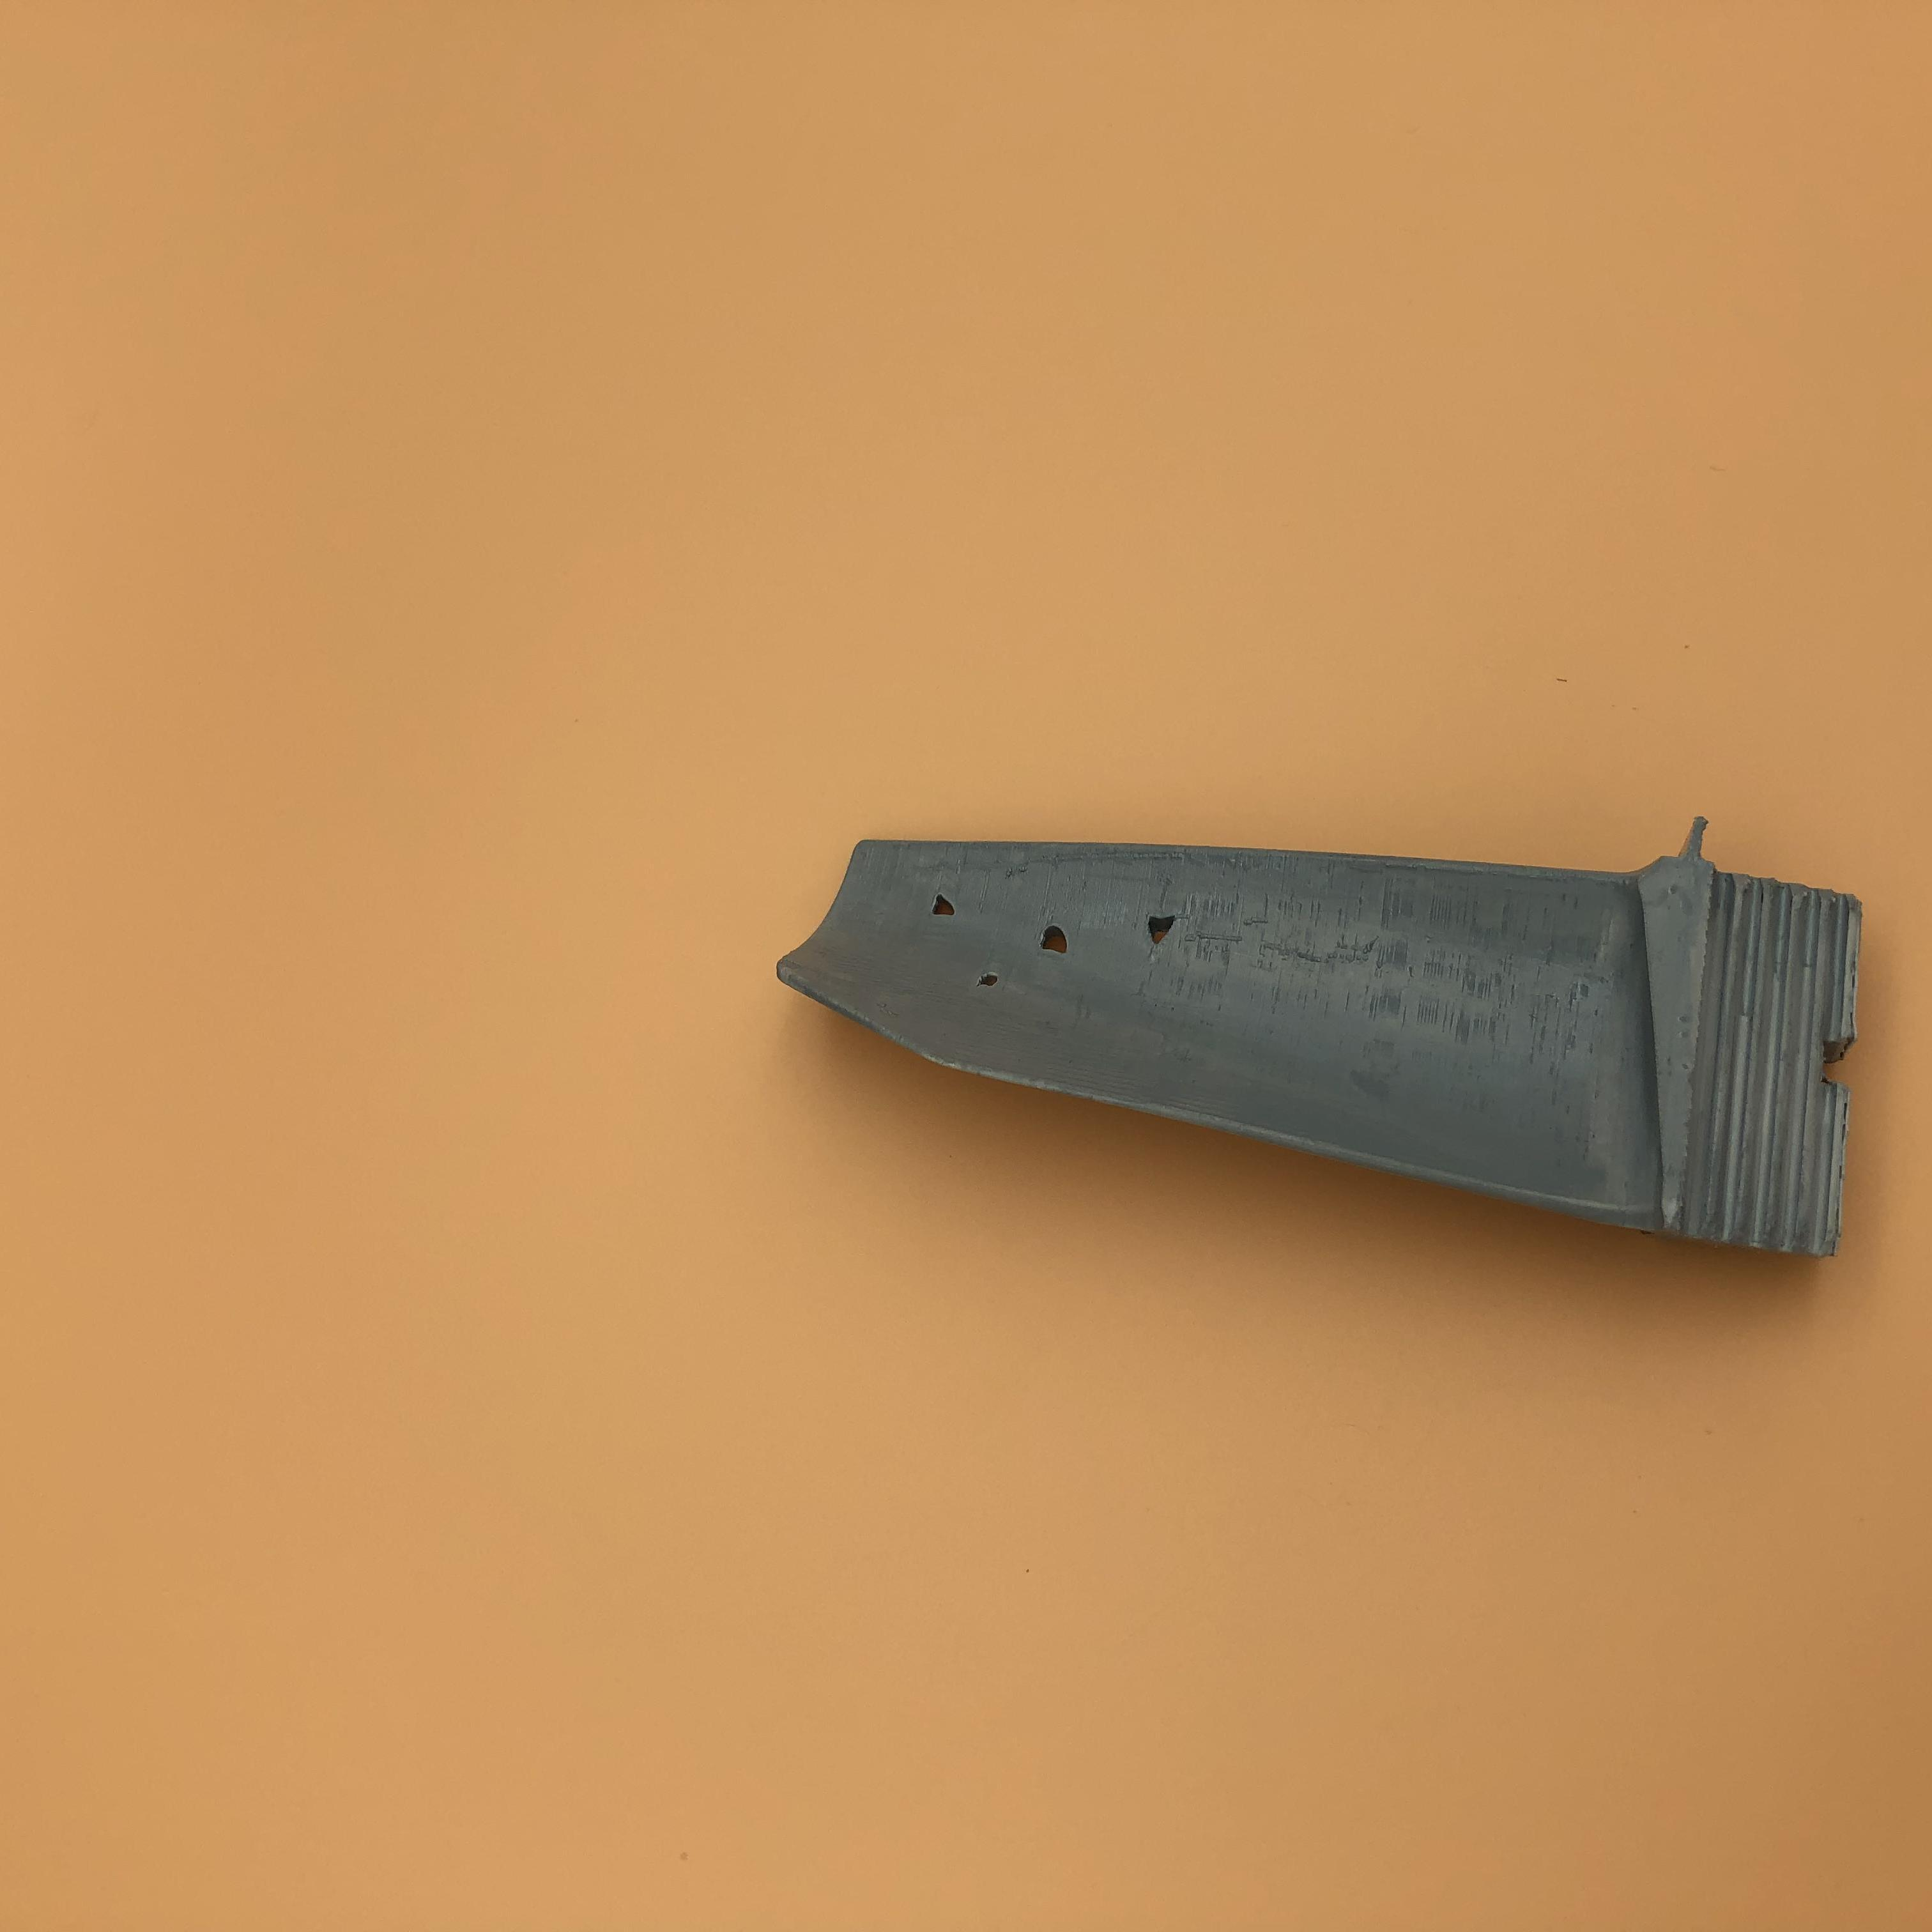breakdown: (918, 890, 1192, 1000)
